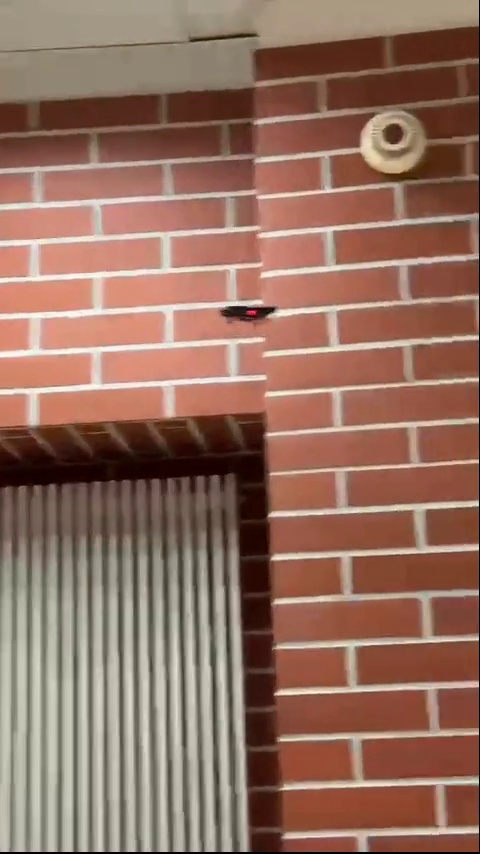drone: (220, 298, 277, 324)
